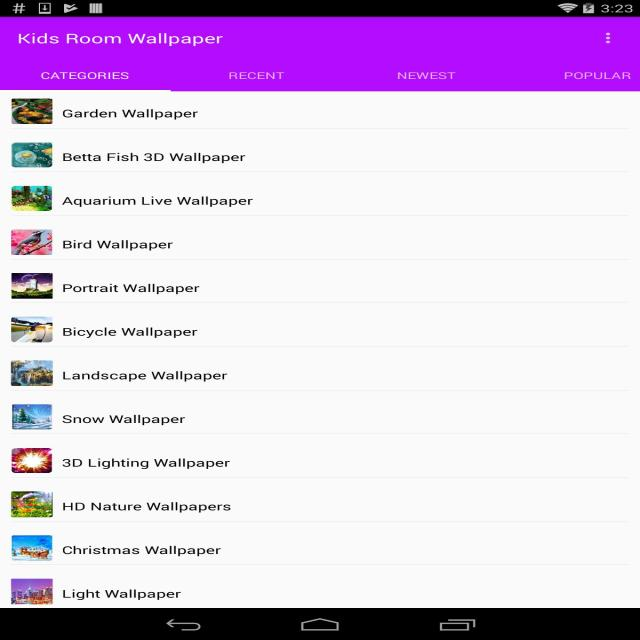button: (181, 64, 346, 90), (359, 63, 511, 90), (0, 64, 170, 88), (523, 62, 640, 91), (598, 28, 621, 49)
heading: (16, 31, 226, 50)
image: (11, 271, 57, 299), (8, 140, 54, 167), (9, 98, 53, 126), (8, 360, 55, 386), (10, 228, 52, 255), (10, 403, 53, 429), (11, 316, 54, 342), (13, 184, 53, 210), (12, 534, 52, 559), (11, 579, 53, 602), (12, 492, 52, 516), (13, 448, 53, 472)
text: (62, 194, 255, 208), (59, 150, 248, 164), (61, 104, 202, 122), (59, 372, 238, 386), (59, 457, 246, 470), (60, 326, 202, 341), (62, 502, 233, 514), (59, 281, 201, 295), (59, 588, 185, 603), (60, 546, 229, 556), (61, 238, 178, 252), (60, 414, 185, 427)
